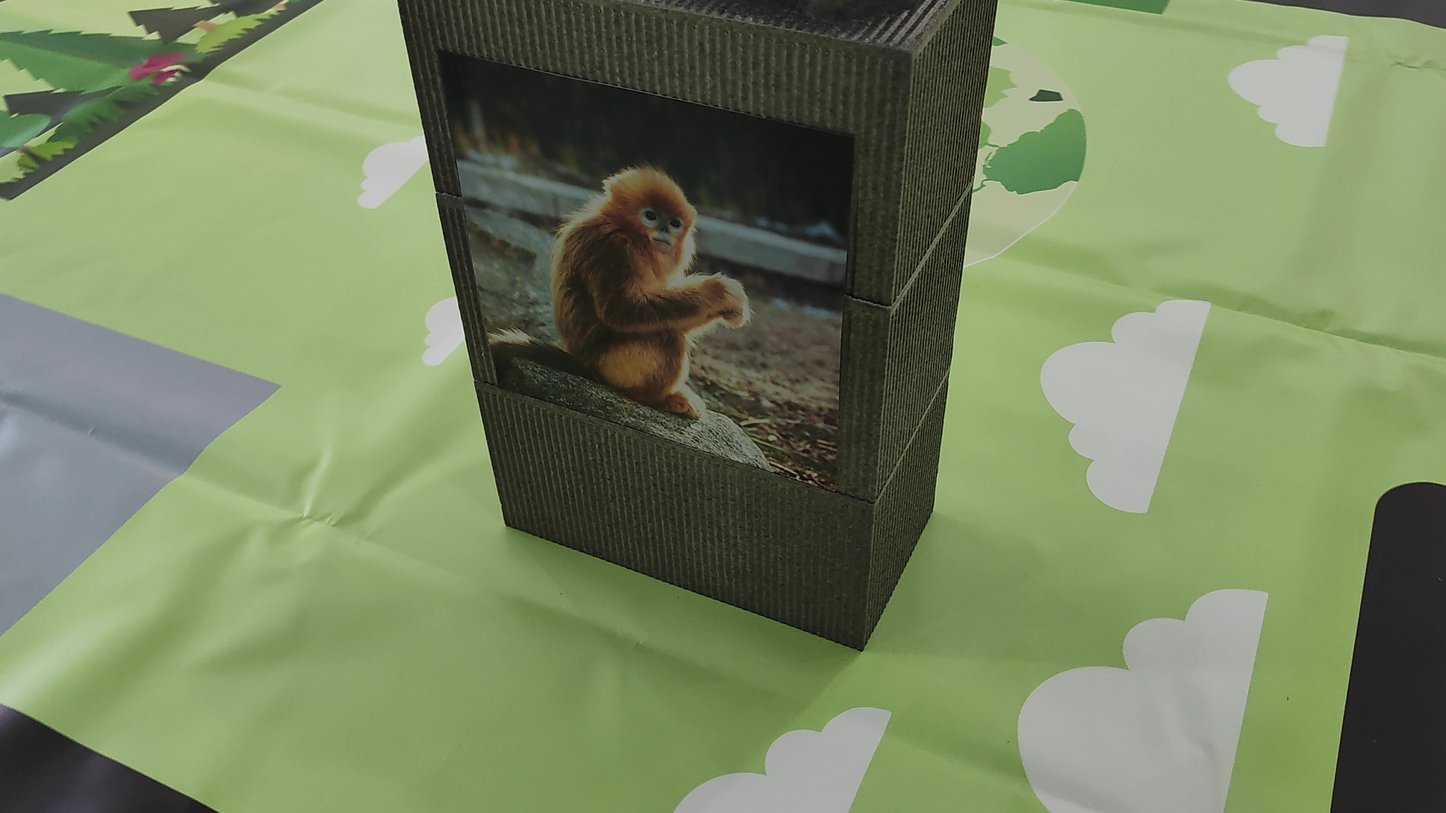monkey: (484, 107, 798, 441)
